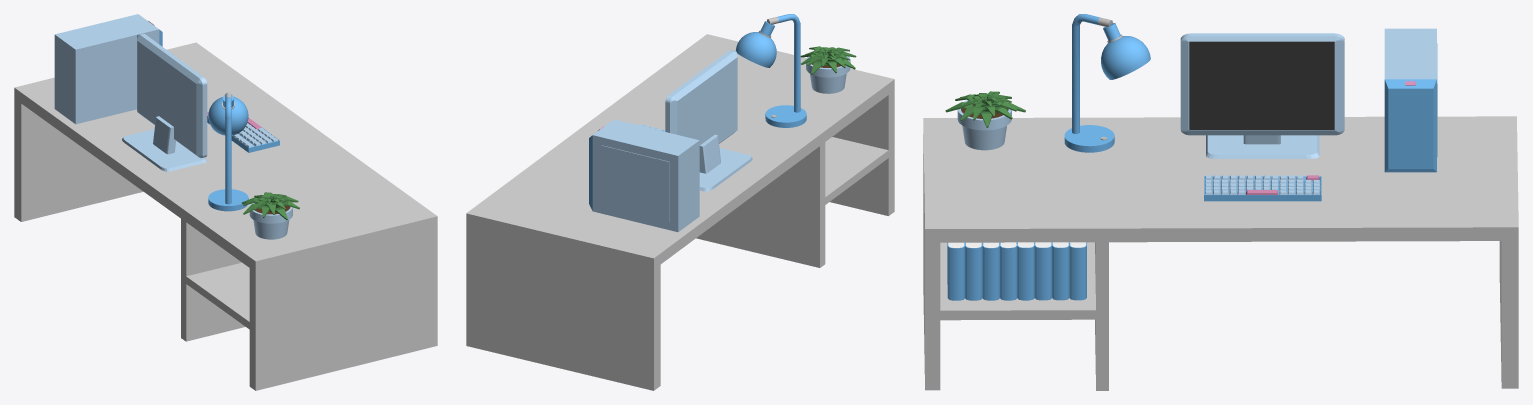
3 renders of one model, left to right at view 1: azimuth 30°, elevation 25°; view 2: azimuth 150°, elevation 25°; view 3: azimuth 270°, elevation 25°, orthographic. The views are drawn at different scales.
Parts seen in each view (by area): view 1: desk1-pastelblue; view 2: desk1-pastelblue; view 3: desk1-pastelblue.
Boxes of the visible parts, x1,y1,x2,y2 form: desk1-pastelblue: [14, 14, 437, 390]; desk1-pastelblue: [466, 14, 894, 390]; desk1-pastelblue: [923, 14, 1518, 390].
Size of the model in its own units: 80.08 by 95.78 by 179.
